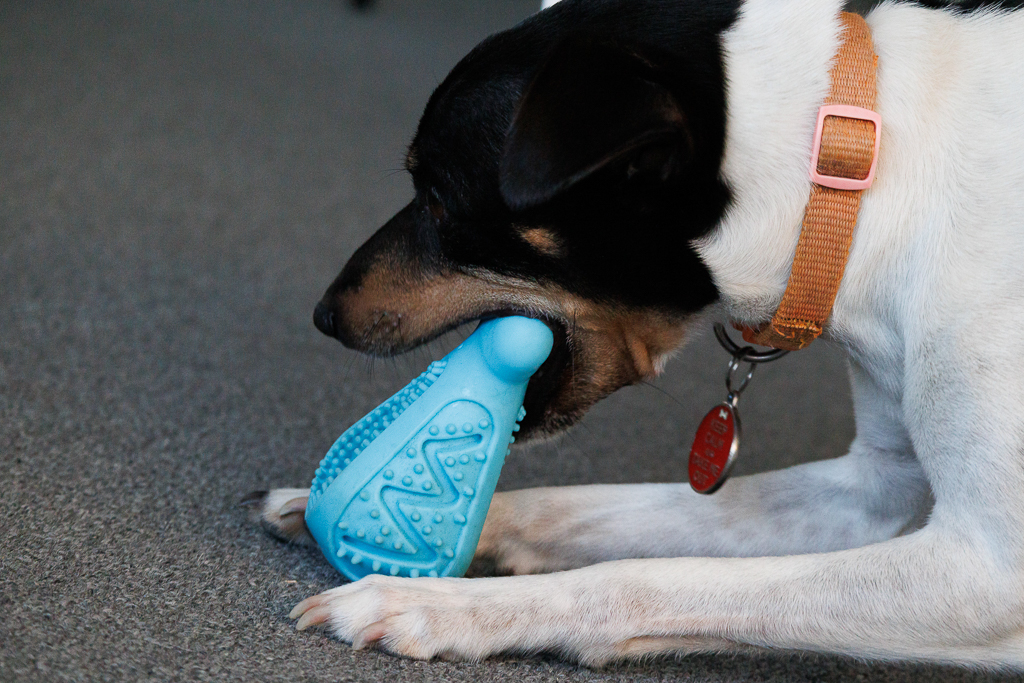Dog: (226, 0, 1024, 683)
